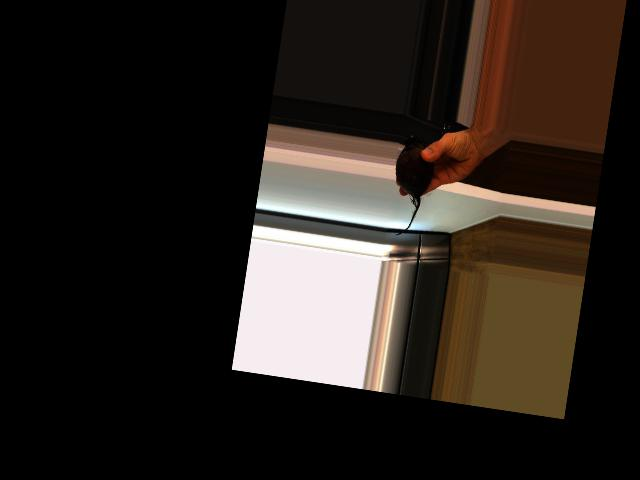beet: (385, 130, 438, 239)
